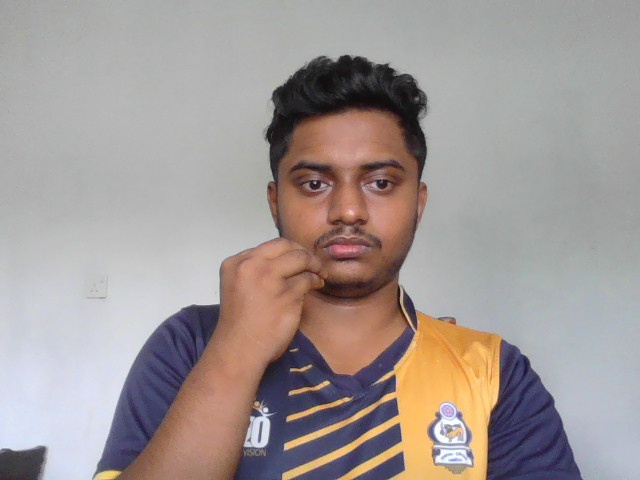Eat: (215, 235, 330, 360)
